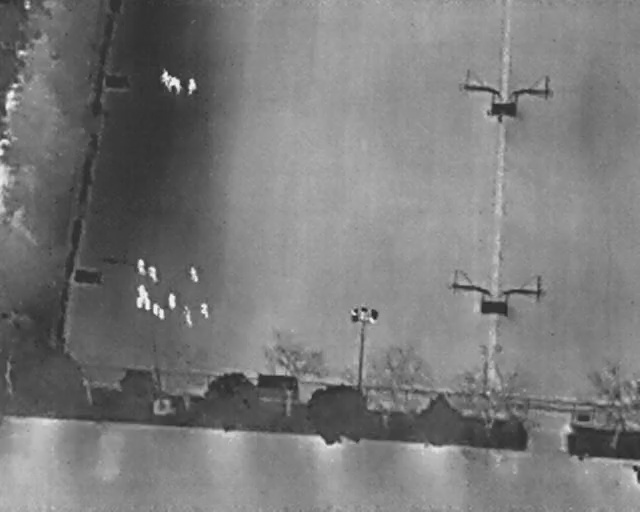Person: (187, 264, 202, 286), (182, 306, 196, 329), (160, 69, 172, 90), (171, 76, 183, 93), (166, 293, 178, 310), (147, 265, 158, 283), (135, 258, 145, 277), (200, 303, 211, 320), (135, 283, 147, 297), (188, 77, 197, 94), (151, 303, 160, 316), (135, 296, 143, 310), (143, 297, 151, 311), (156, 308, 165, 320)
